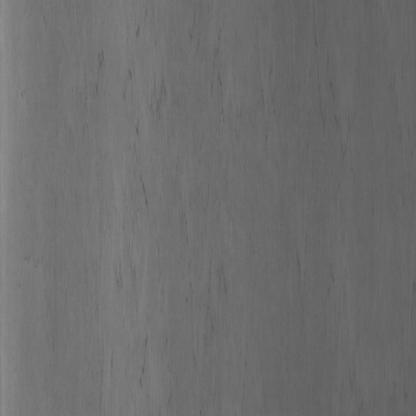silk_spot: (107, 124, 228, 356)
